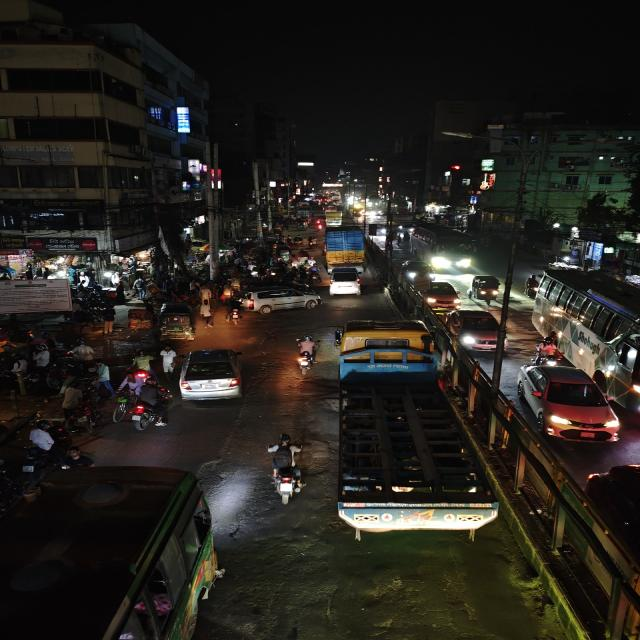bus: (1, 462, 224, 640), (536, 268, 640, 402), (411, 223, 477, 273)
car: (516, 362, 620, 446), (175, 346, 246, 406), (444, 307, 511, 355), (241, 282, 324, 314), (416, 279, 462, 309), (324, 265, 366, 297), (396, 258, 434, 281)
cng: (157, 302, 198, 342), (468, 273, 504, 304)
motorcycle: (261, 434, 311, 506), (122, 394, 171, 431), (22, 422, 58, 460), (291, 334, 323, 376), (532, 332, 565, 363), (225, 298, 246, 324)
pedestrian: (158, 345, 180, 375), (108, 393, 130, 423), (197, 299, 217, 328)
rickshaw: (122, 304, 156, 338)
truck: (336, 323, 499, 542), (322, 225, 369, 271)
